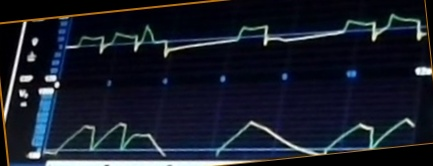Double_Triggering Flow: (77, 14, 426, 64)
Double_Triggering Volume: (52, 101, 414, 159)
